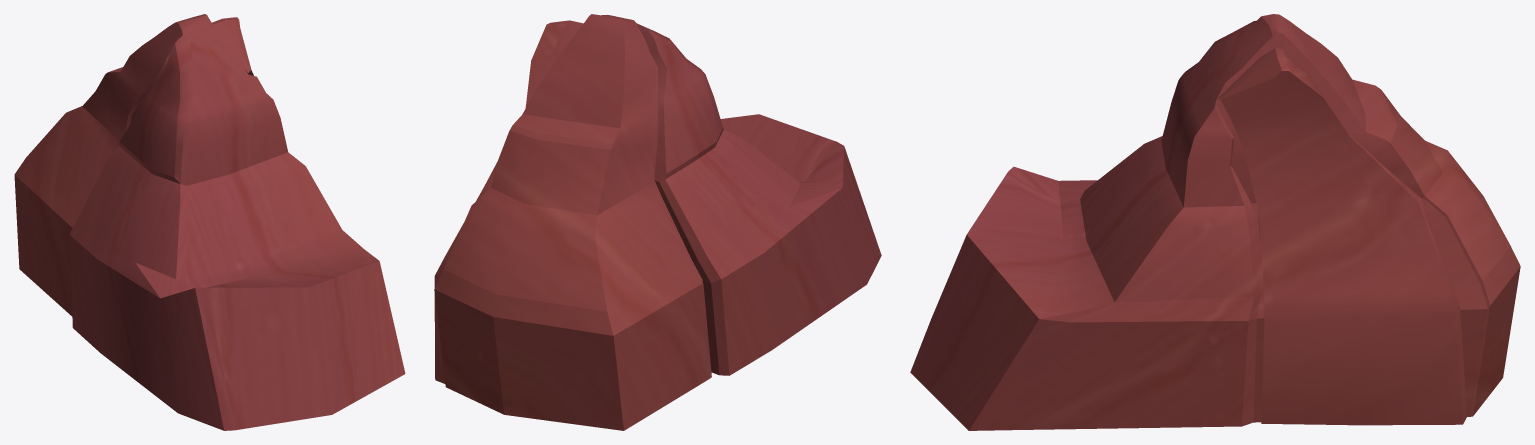
The model's file is SM_LStone_03.fbx.
3 renders of one model, left to right at view 1: azimuth 30°, elevation 25°; view 2: azimuth 150°, elevation 25°; view 3: azimuth 270°, elevation 25°, orthographic. The views are drawn at different scales.
Parts seen in each view (by area): view 1: SM_Stone_03_L; view 2: SM_Stone_03_L; view 3: SM_Stone_03_L.
Part boxes in pixels (x1,y1,x2,y2): SM_Stone_03_L: (14, 14, 405, 430); SM_Stone_03_L: (434, 14, 881, 430); SM_Stone_03_L: (910, 14, 1520, 430).
Bounding box in the file's own units: 585 × 748 × 1169.
